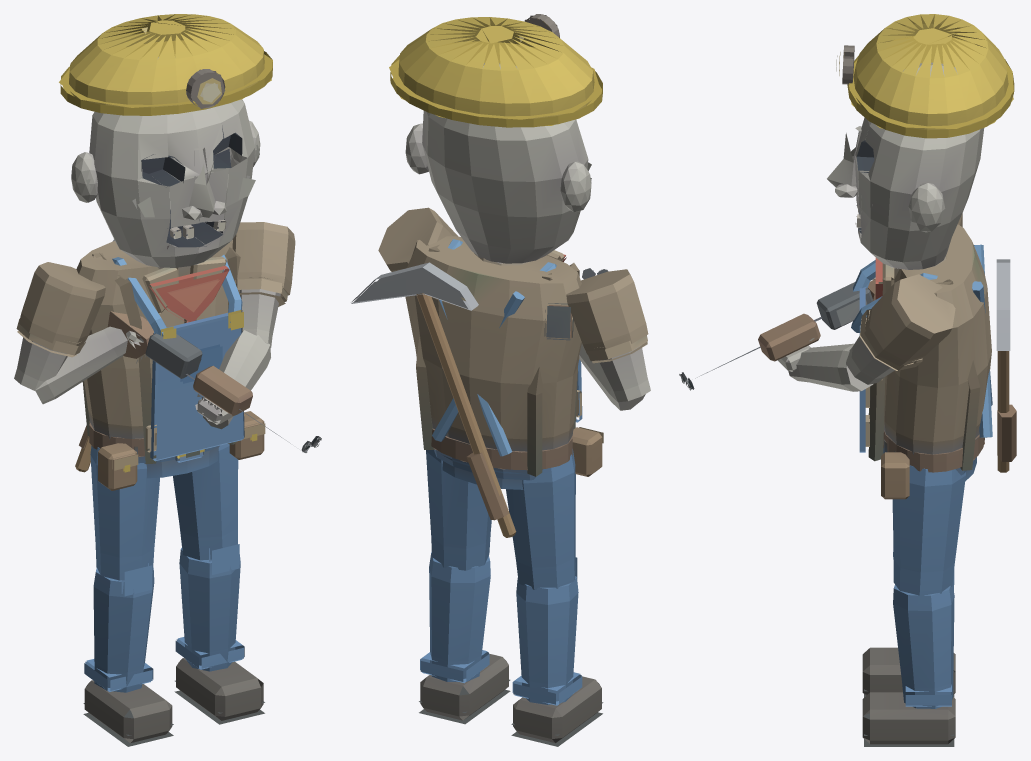
File: GrandfatherMiner.glb
The picture shows the model from 3 angles, left to right: view 1: azimuth 30°, elevation 25°; view 2: azimuth 150°, elevation 25°; view 3: azimuth 270°, elevation 25°; orthographic projection.
Visible parts, largest first — view 1: Head, Body, LegR, LegL, ArmR, ArmL; view 2: Body, Head, LegR, LegL, ArmR, ArmL; view 3: Head, Body, LegL, ArmL, LegR.
Part boxes in pixels (x1,y1,x2,y2): Head: [59, 14, 272, 267]; Body: [75, 237, 321, 490]; LegR: [83, 445, 173, 746]; LegL: [173, 443, 264, 724]; ArmR: [14, 262, 145, 404]; ArmL: [195, 222, 295, 429]; Body: [351, 236, 608, 537]; Head: [389, 14, 602, 263]; LegR: [506, 449, 603, 746]; LegL: [419, 450, 510, 724]; ArmR: [566, 269, 650, 410]; ArmL: [378, 207, 458, 271]; Head: [827, 14, 1014, 269]; Body: [679, 224, 1016, 499]; LegL: [862, 465, 965, 746]; ArmL: [777, 274, 955, 391]; LegR: [862, 548, 955, 697].
Bounding box in the file's own units: 2.69 × 6.52 × 2.93.
